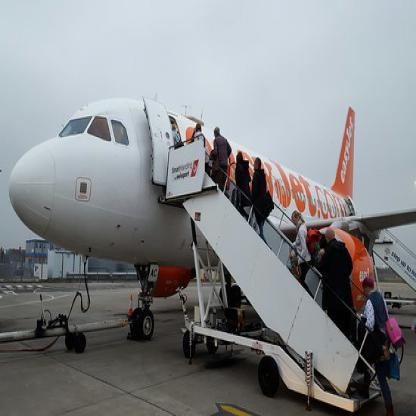CIV_Plane: (6, 93, 414, 352)
